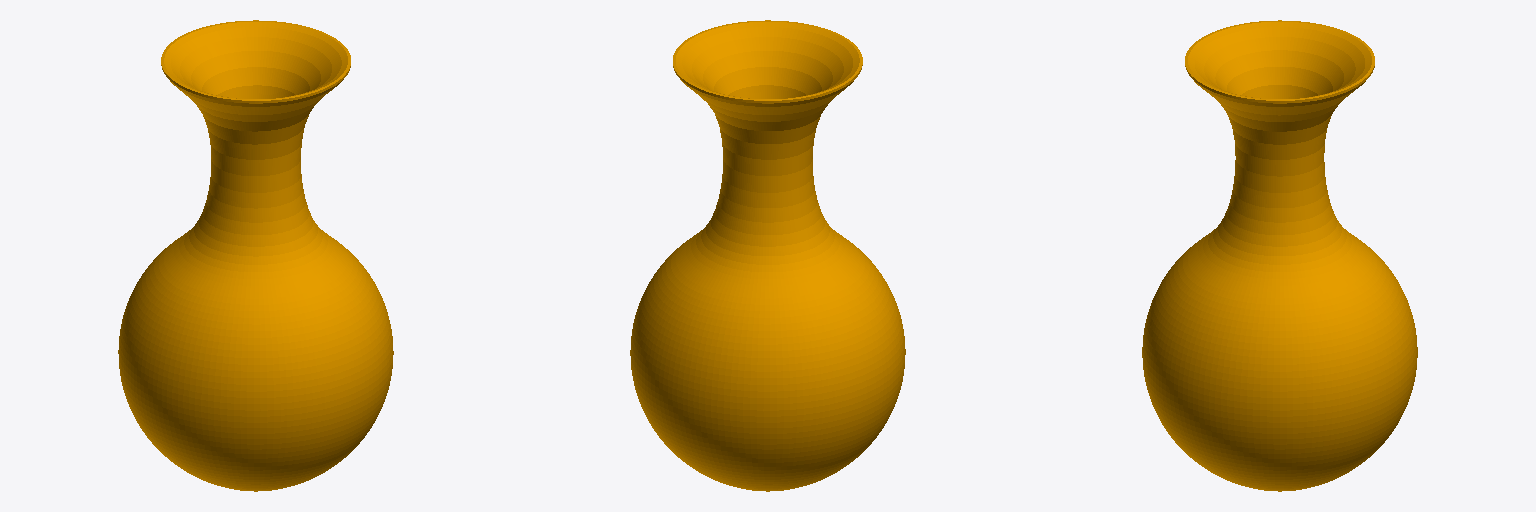
The robot description file, URDF, robot "vase":
<robot name="vase">

  <link name="base_link">
    <visual>
    <origin xyz="0.2 0 0.2" rpy="0 0 0"/>

      <geometry>
        <mesh filename="package://entertrainer_test/urdf/stl/lava_vase1.stl" scale="0.125 0.125 0.125"/>
      </geometry>
      <material name="light_black"/>
    </visual>

    <collision>
      <origin xyz="0.2 0 0.1" rpy="0 0 0"/>
      <geometry>
        <box size="0.266 0.266 0.5"/>
      </geometry>
    </collision>

    <inertial>
      <origin xyz="0 0 0" rpy="0 0 0"/>
      <mass value="1.3729096e+00"/>
      <inertia ixx="8.7002718e-03" ixy="-4.7576583e-05" ixz="1.1160499e-04"
               iyy="8.6195418e-03" iyz="-3.5422299e-06"
               izz="1.4612727e-02" />
    </inertial>
  </link>

</robot>

--- Facts derived from the render (not from the file) ---
3 views of the same robot in one strip: view 1: azimuth 30°, elevation 25°; view 2: azimuth 150°, elevation 25°; view 3: azimuth 270°, elevation 25° (orthographic).
Model vase with 1 links and 0 joints (none), rooted at base_link, posed all joints at 0.
Links seen in each view (by area): view 1: base_link; view 2: base_link; view 3: base_link.
Link boxes in pixels (left/top/right/bottom): base_link: left=118, top=20, right=393, bottom=491; base_link: left=630, top=20, right=905, bottom=491; base_link: left=1142, top=20, right=1417, bottom=491.
Bounding box of the posed robot: 0.4346 × 0.4346 × 0.7121 m (x, y, z).
1 mesh visuals loaded from 1 distinct referenced files (1 binary STL).